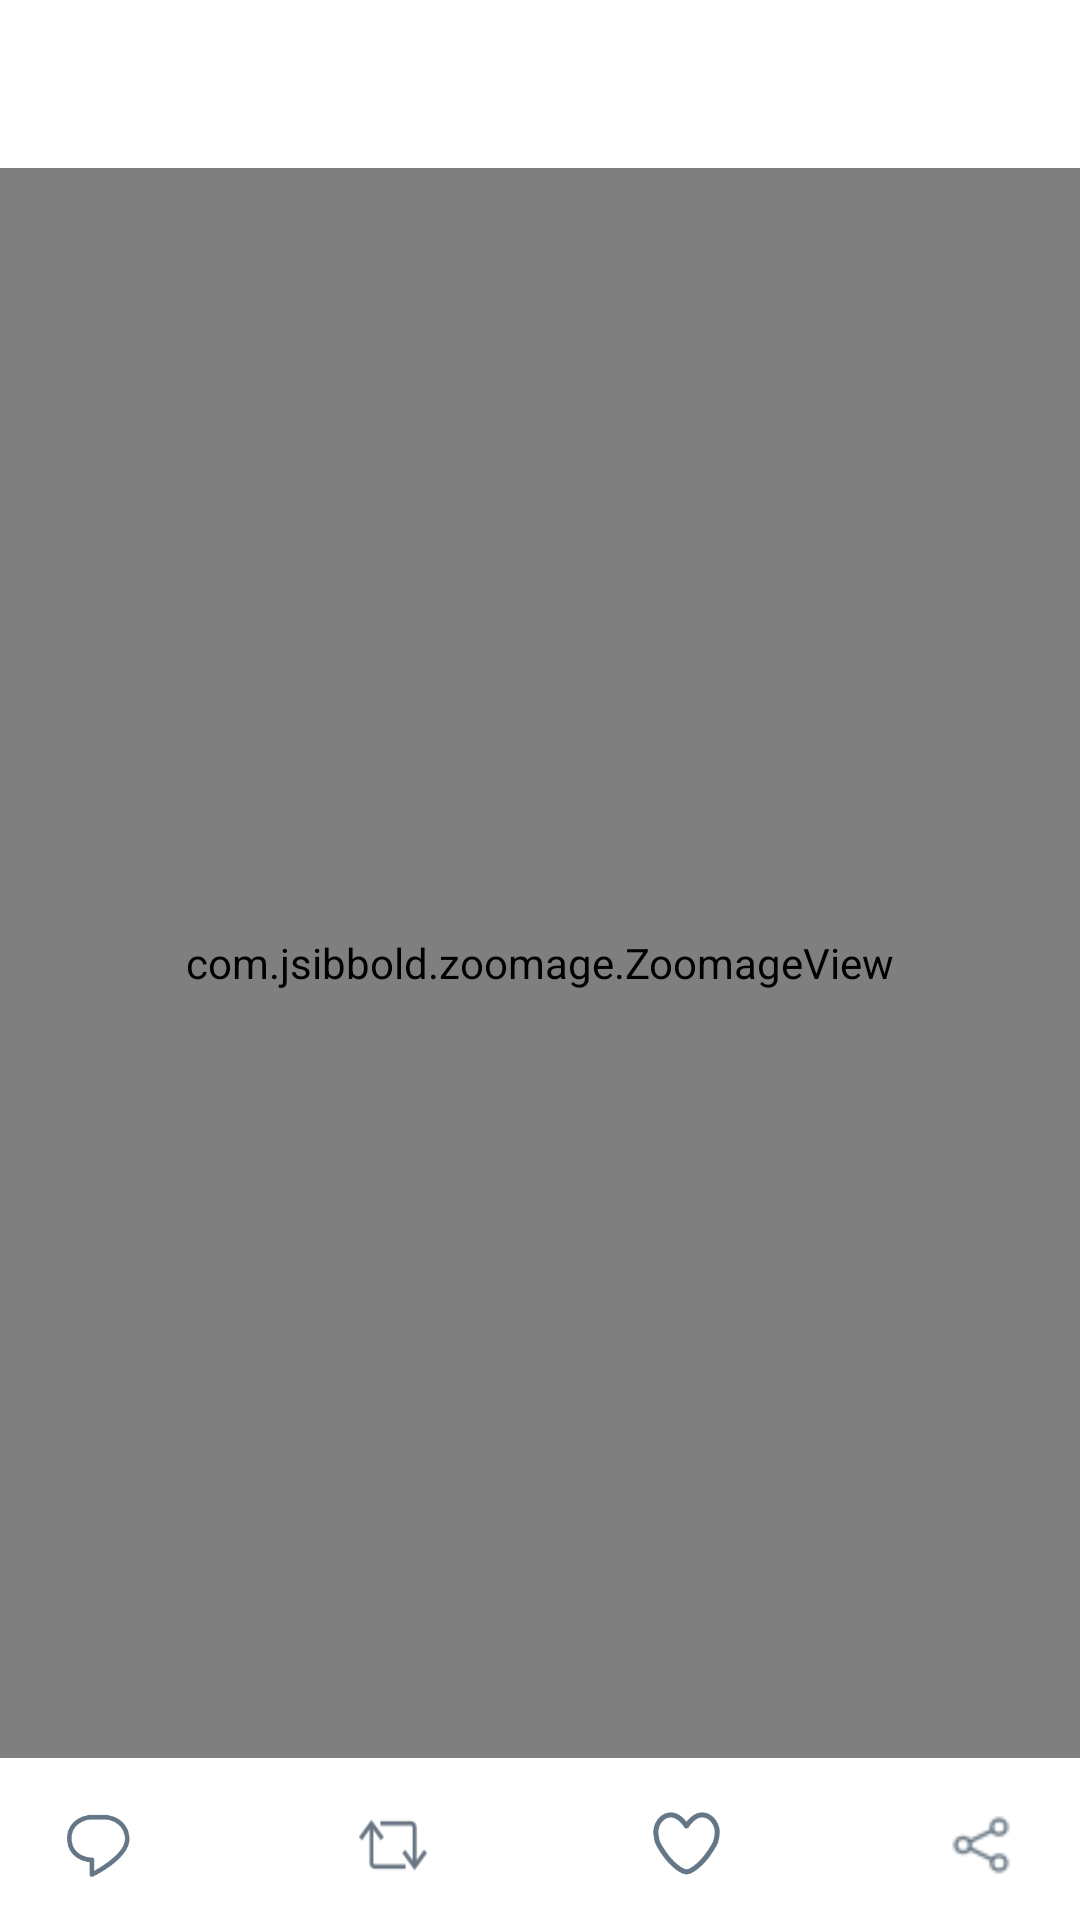

Icon bounding boxes for this 1080×1920 phone screenshot, format (x1, y1, x2, y2):
like: (653, 1812, 720, 1875)
reply: (67, 1815, 130, 1877)
share: (952, 1816, 1010, 1874)
